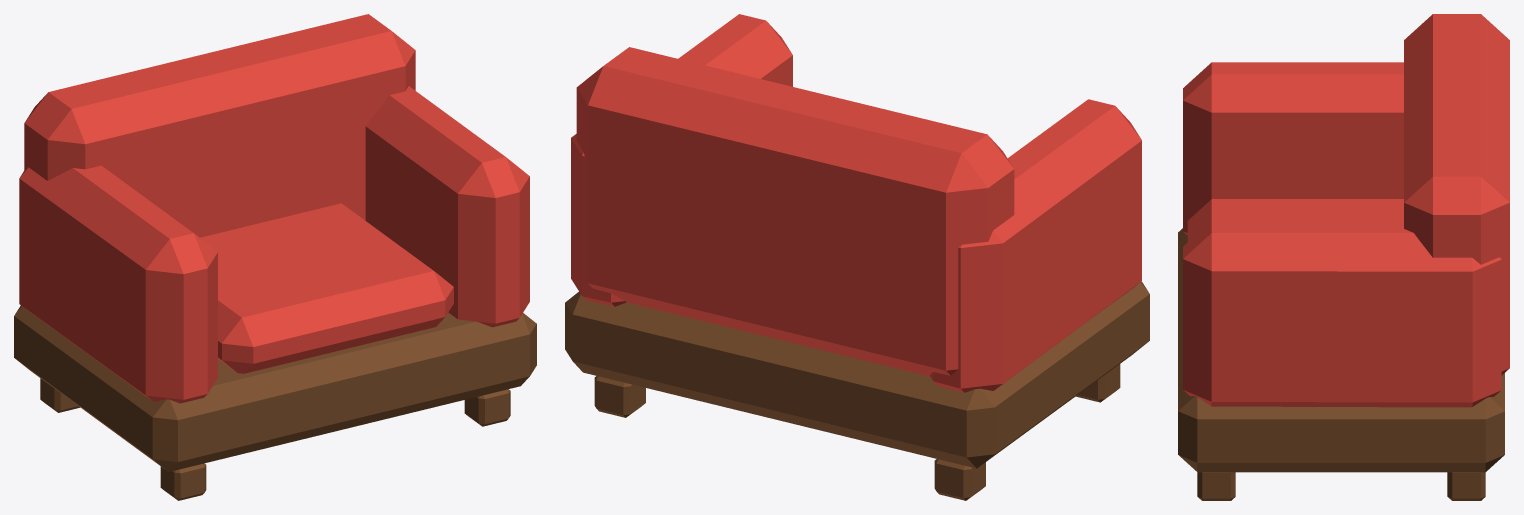
The model's file is lobby_armchair.glb.
The picture shows the model from 3 angles, left to right: view 1: azimuth 30°, elevation 25°; view 2: azimuth 150°, elevation 25°; view 3: azimuth 270°, elevation 25°; orthographic projection. The views are drawn at different scales.
Visible parts, largest first — view 1: lobby_armchair; view 2: lobby_armchair; view 3: lobby_armchair.
Part boxes in pixels (box(x1,y1,x2,y2)): lobby_armchair: box(14, 14, 536, 500); lobby_armchair: box(565, 14, 1149, 500); lobby_armchair: box(1178, 14, 1509, 500).
Bounding box in the file's own units: 0.9657 × 0.74 × 0.69.
